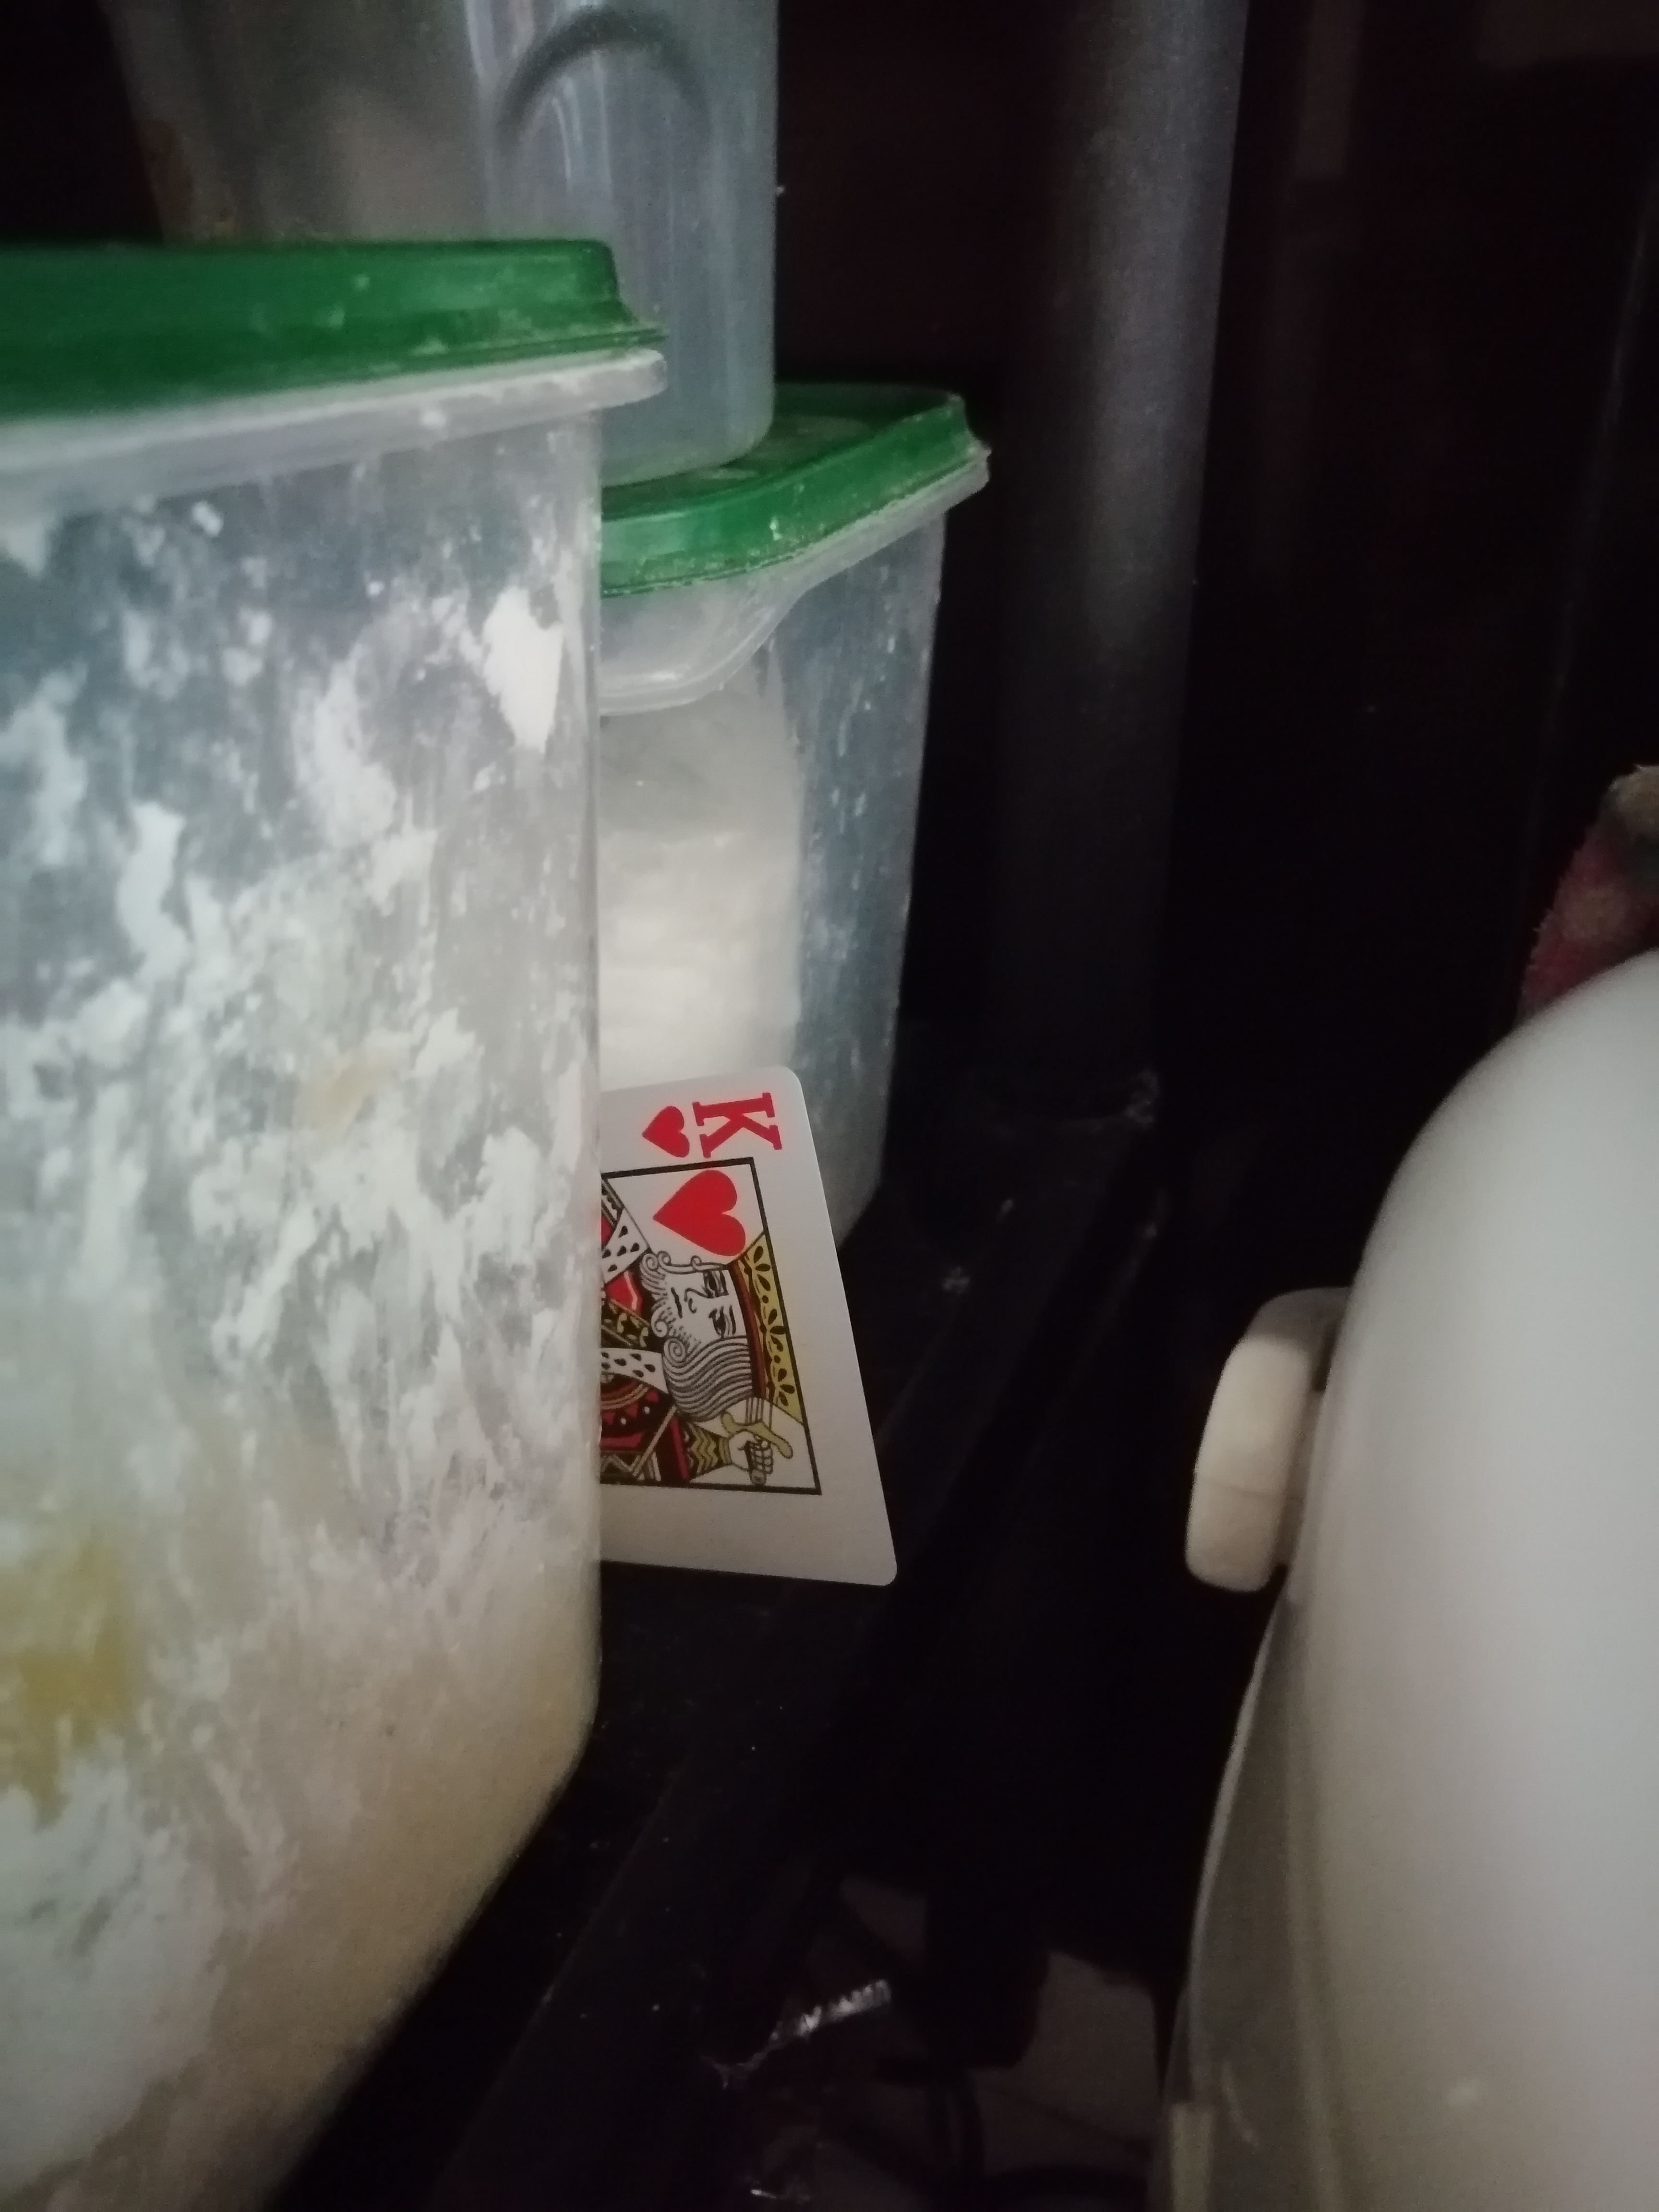king: (528, 1049, 913, 1622)
